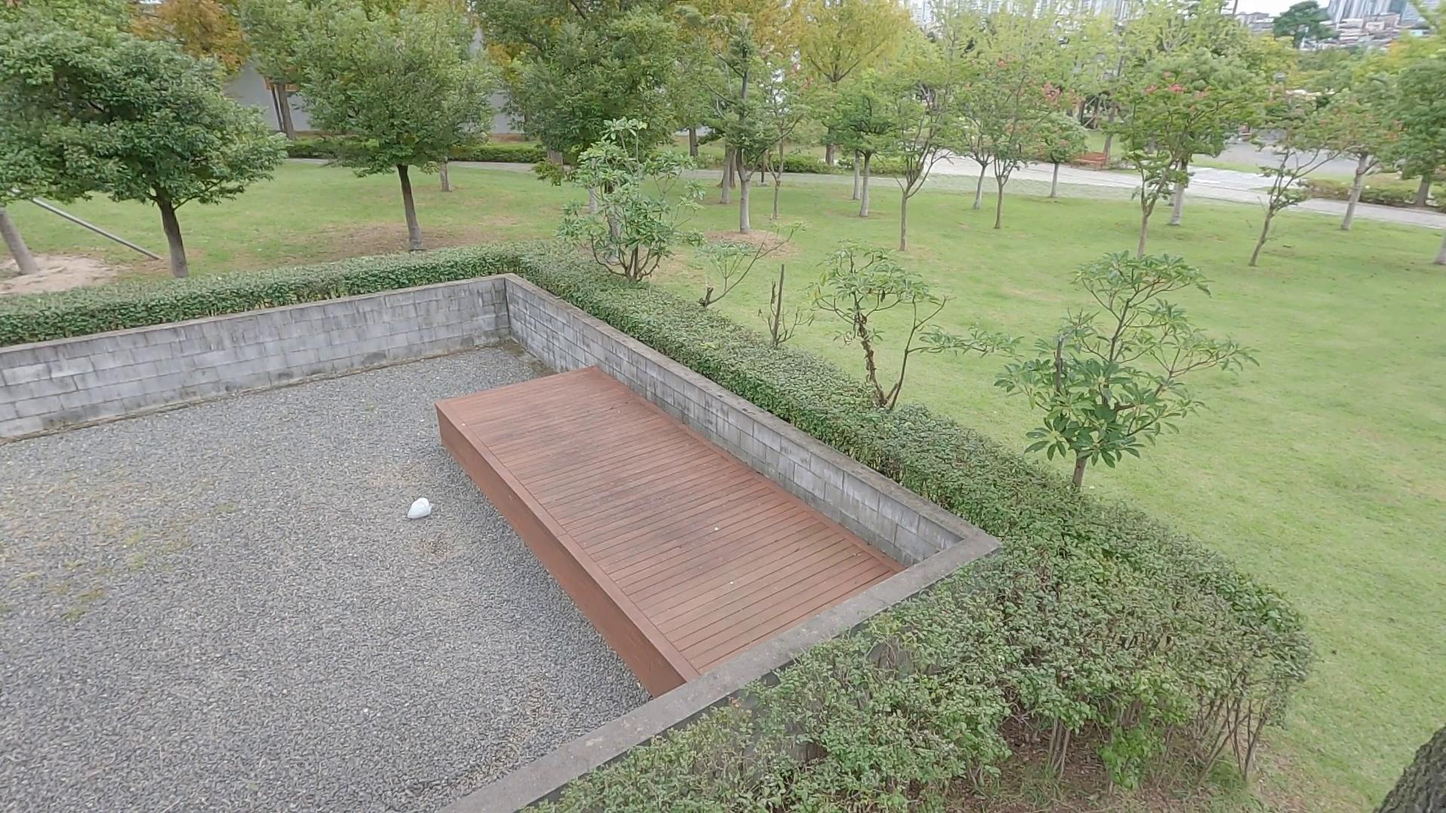trash: (405, 490, 439, 522)
